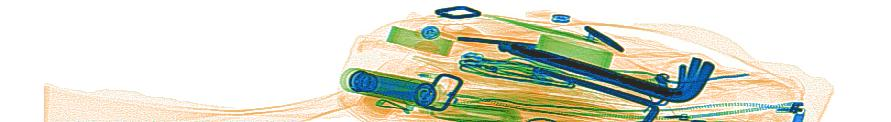battery: (359, 72, 422, 103)
